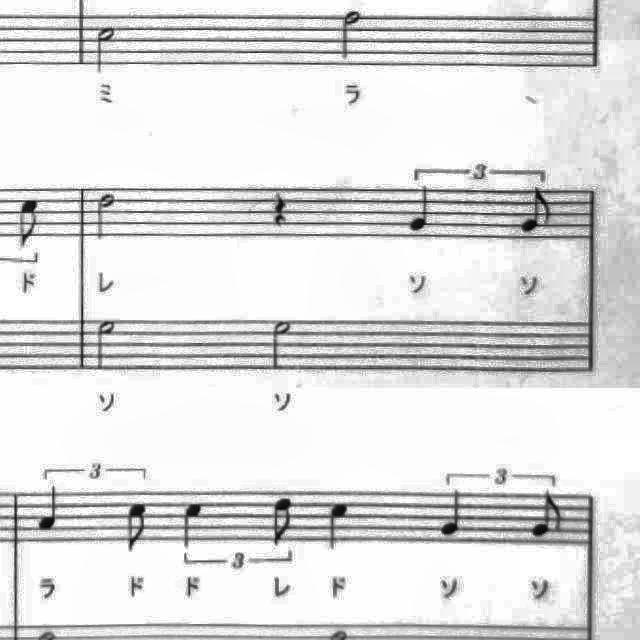Eighth-note: (514, 183, 558, 241), (522, 488, 566, 544), (120, 497, 156, 559), (12, 191, 48, 251), (264, 493, 300, 552)
Half-note: (332, 5, 372, 68), (264, 313, 300, 375), (90, 314, 124, 378), (88, 18, 124, 78), (90, 188, 122, 245)
Quarter-note: (432, 484, 472, 544), (322, 496, 358, 558), (403, 182, 441, 238), (174, 497, 210, 555), (32, 482, 68, 538)
Quarter-rest: (267, 186, 297, 232)
